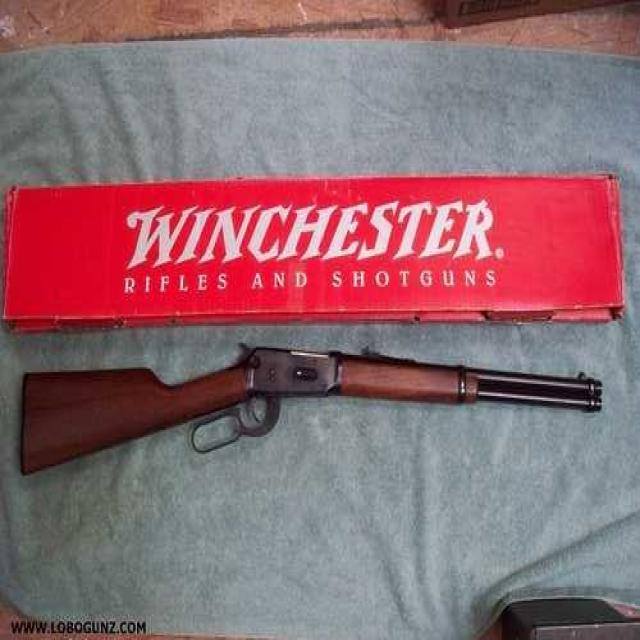heavyweapon: (19, 313, 624, 508)
